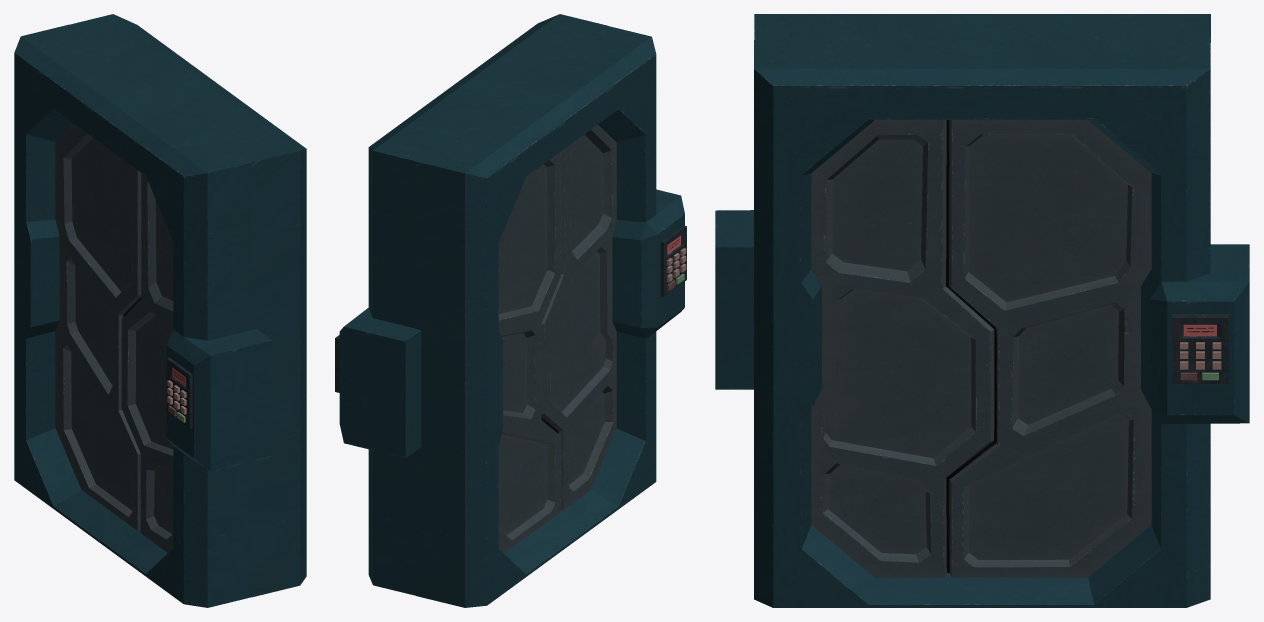
3 views of the same model, side by side, from view 1: azimuth 30°, elevation 25°; view 2: azimuth 150°, elevation 25°; view 3: azimuth 270°, elevation 25° (orthographic). The views are drawn at different scales.
Visible parts, largest first — view 1: door_outer_back, door_outer, door_left, door_right, door_controls; view 2: door_outer_back, door_outer, door_right, door_left, door_controls; view 3: door_outer, door_left, door_right, door_outer_back, door_controls_back.
Boxes of the visible parts, x1,y1,x2,y2 form: door_outer_back: [14, 24, 272, 607]; door_outer: [65, 14, 306, 597]; door_left: [55, 124, 141, 530]; door_right: [121, 173, 173, 552]; door_controls: [166, 357, 192, 428]; door_outer_back: [416, 25, 684, 607]; door_outer: [339, 14, 607, 595]; door_right: [541, 124, 616, 509]; door_left: [498, 152, 560, 553]; door_controls: [660, 225, 686, 296]; door_outer: [754, 40, 1249, 607]; door_left: [949, 120, 1151, 577]; door_right: [811, 120, 996, 577]; door_outer_back: [715, 14, 1210, 389]; door_controls_back: [1172, 314, 1228, 383].
Size of the model in its own units: 565 by 1525 by 1392.
1 material, 1 textured.
